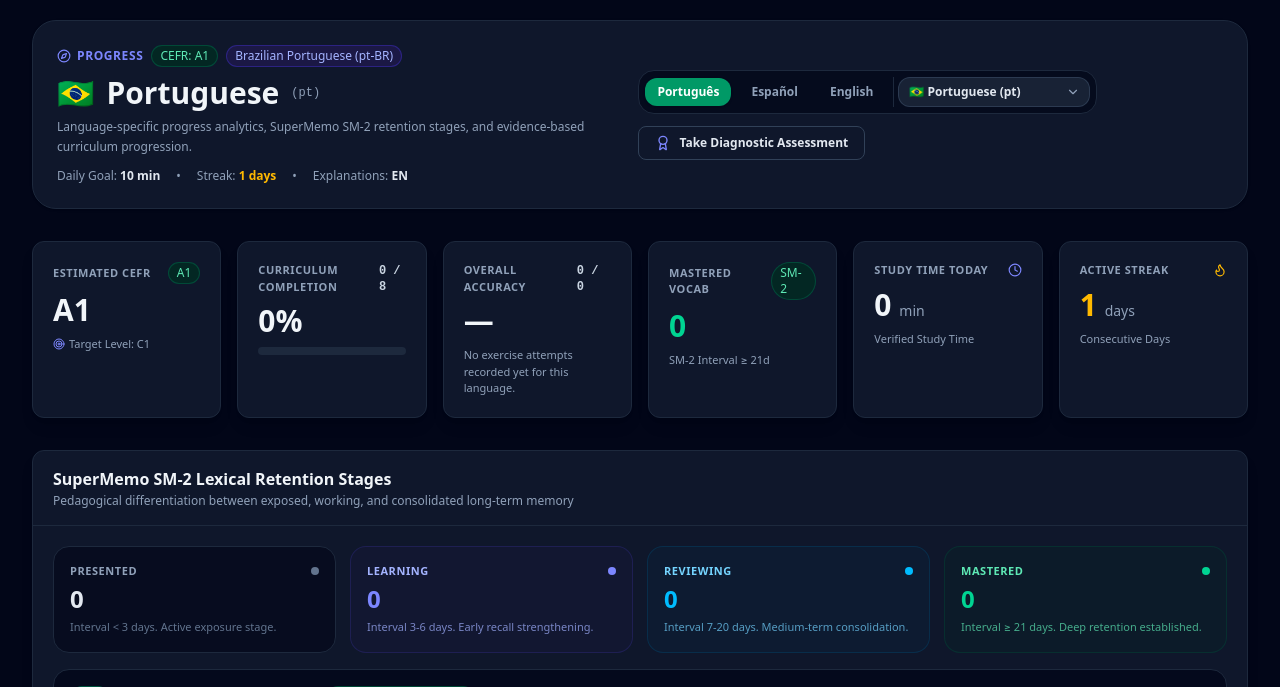
Test: Progress Page — English Language Toggle & Curriculum › renders English track toggle button on ProgressPage and switches curriculum to English
Switch to English
Click the button "English" at x=852, y=92, box top-left (818, 78), bottom-right (885, 106)
(page scrolled)
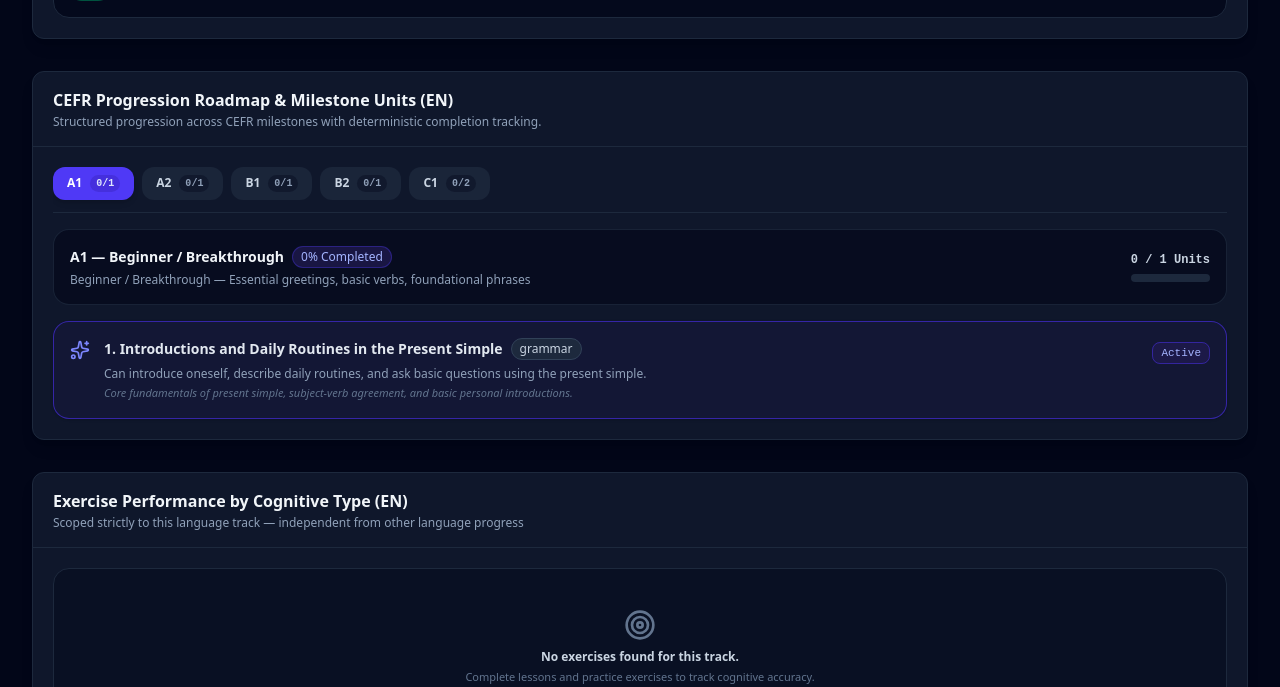
Result: the text "1. Introductions and Daily Routines in the Present Simple" is shown at top-left (104, 339), bottom-right (502, 359)
